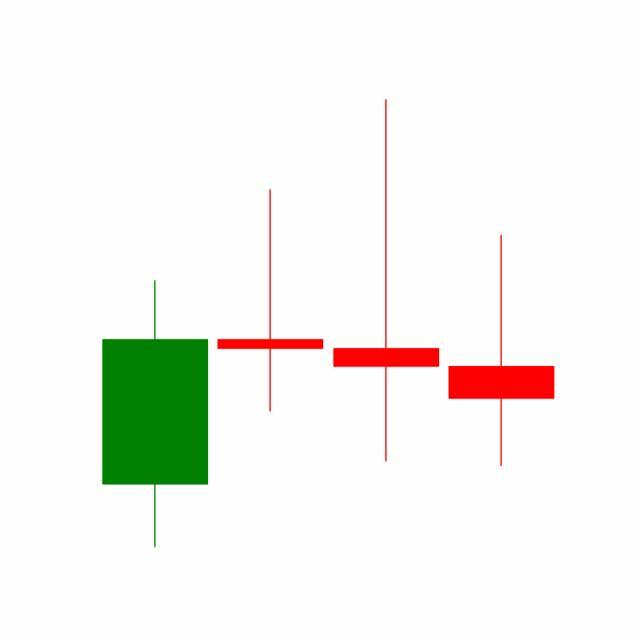Spinning Top: (444, 233, 560, 469)
